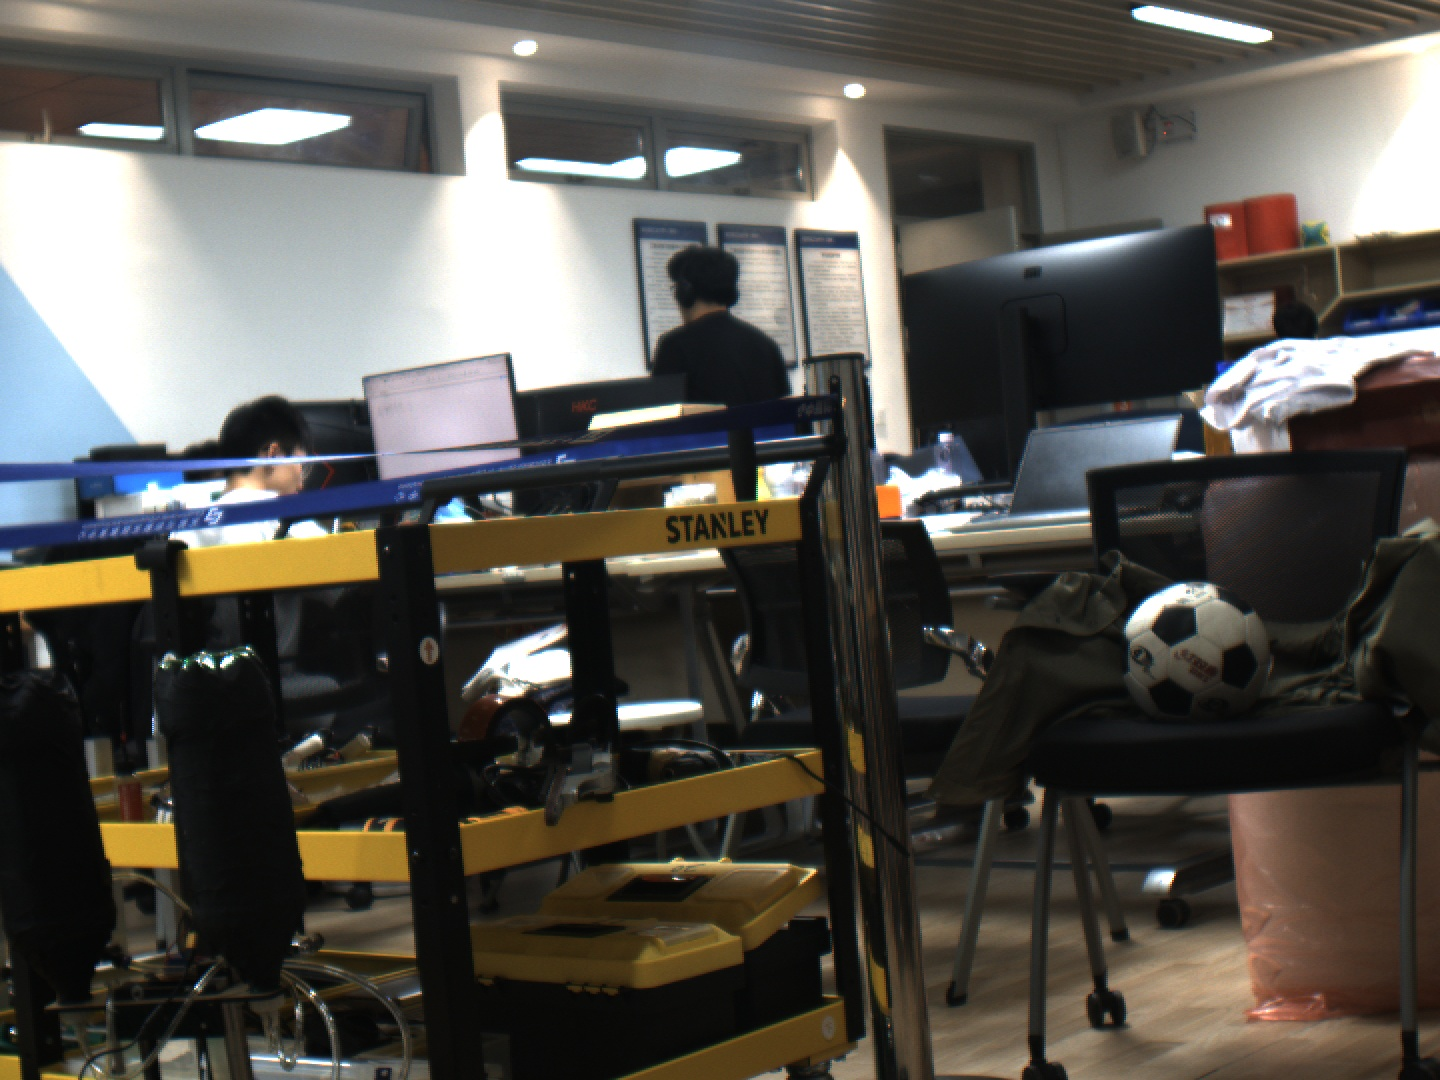ball: (1121, 583, 1267, 725)
